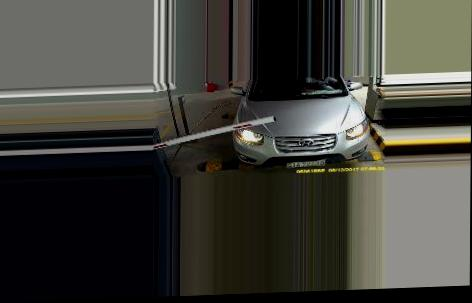License_Plate: (283, 158, 327, 168)
